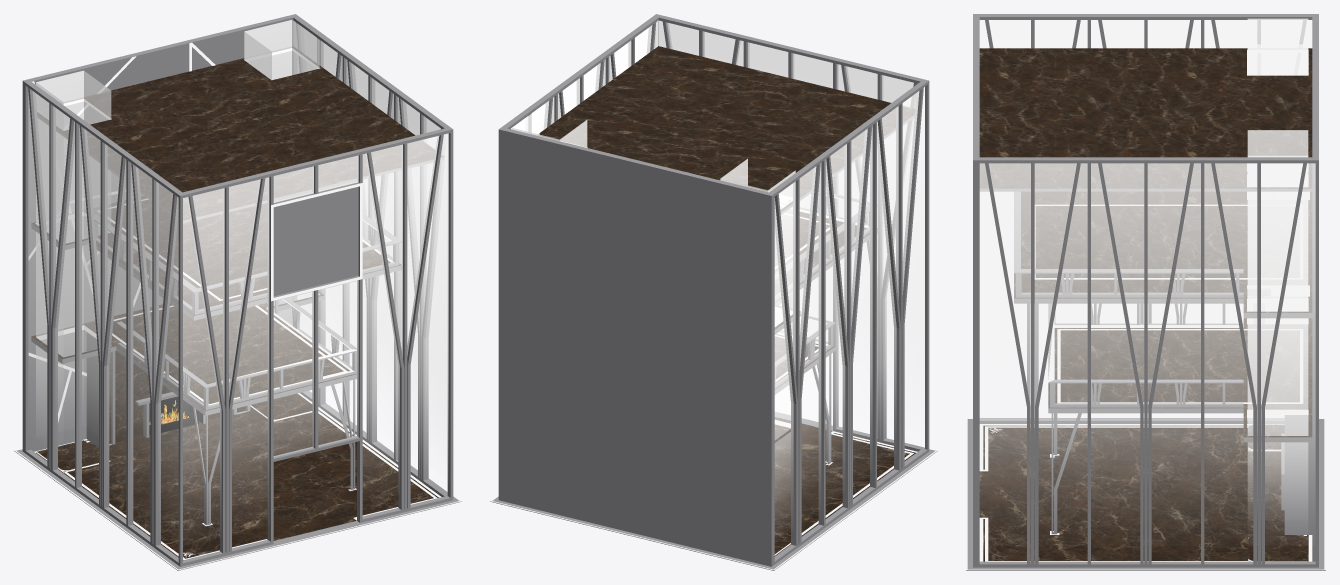
Rendered from Dhingia Builds 05 silver size 1x1.glb.
The picture shows the model from 3 angles, left to right: view 1: azimuth 30°, elevation 25°; view 2: azimuth 150°, elevation 25°; view 3: azimuth 270°, elevation 25°; orthographic projection. The views are drawn at different scales.
Visible parts, largest first — view 1: Mesh_1, Mesh_4, Mesh_7, Mesh_2, Mesh_0.001, Mesh_5, Mesh_6, Mesh_8, Mesh_11, Lift, Mesh_3, Mesh_9 (+1 smaller); view 2: Mesh_4, Mesh_1, Mesh_7, Mesh_2, Mesh_0.001, Mesh_6, Mesh_5, Mesh_11, Mesh_8, Mesh_9; view 3: Mesh_1, Mesh_7, Mesh_4, Mesh_2, Mesh_0.001, Mesh_6, Mesh_5, Mesh_8, Mesh_11, Lift, Mesh_10.
Part boxes in pixels (x1,y1,x2,y2): Mesh_1: [28, 21, 448, 504]; Mesh_4: [22, 14, 453, 566]; Mesh_7: [37, 46, 444, 222]; Mesh_2: [14, 390, 461, 570]; Mesh_0.001: [36, 20, 319, 420]; Mesh_5: [31, 291, 356, 415]; Mesh_6: [31, 196, 401, 320]; Mesh_8: [116, 298, 356, 409]; Mesh_11: [94, 213, 401, 314]; Lift: [37, 393, 312, 471]; Mesh_3: [28, 42, 215, 422]; Mesh_9: [193, 407, 219, 525]; Mesh_4: [498, 14, 929, 566]; Mesh_1: [511, 20, 924, 501]; Mesh_7: [539, 46, 914, 214]; Mesh_2: [490, 411, 937, 570]; Mesh_0.001: [512, 108, 795, 486]; Mesh_6: [775, 212, 877, 333]; Mesh_5: [774, 334, 835, 447]; Mesh_11: [800, 192, 877, 282]; Mesh_8: [775, 314, 835, 388]; Mesh_9: [812, 354, 831, 464]; Mesh_1: [979, 20, 1315, 500]; Mesh_7: [979, 48, 1312, 191]; Mesh_4: [973, 14, 1318, 567]; Mesh_2: [966, 418, 1325, 570]; Mesh_0.001: [1247, 18, 1308, 508]; Mesh_6: [1014, 173, 1311, 317]; Mesh_5: [1048, 297, 1312, 442]; Mesh_8: [1048, 304, 1243, 407]; Mesh_11: [1014, 192, 1243, 297]; Lift: [1248, 425, 1307, 561]; Mesh_10: [1051, 413, 1081, 534].
Size of what is drawn, in the model's own units: 16 by 20 by 16.
7 materials, 3 textured.
